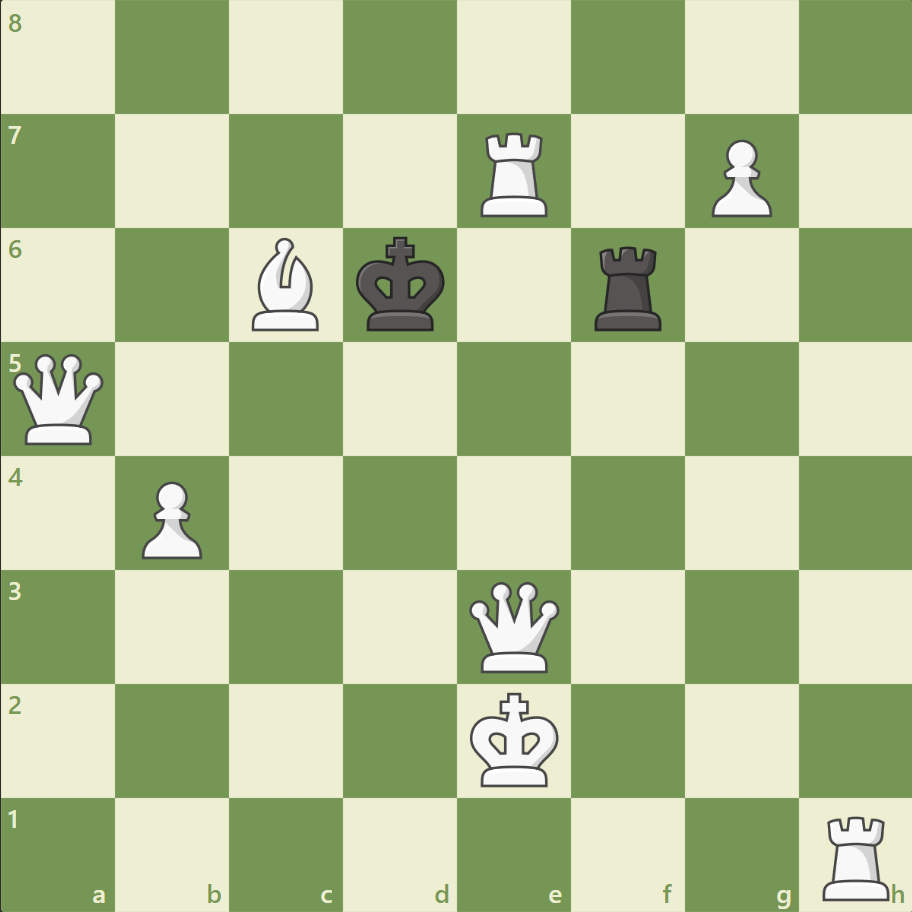B: (244, 233, 328, 336)
K: (465, 685, 565, 793)
P: (701, 132, 776, 223), (133, 473, 208, 564)
Q: (10, 349, 109, 449), (464, 576, 563, 676)
R: (814, 806, 897, 904), (473, 125, 556, 222)
k: (351, 231, 451, 339)
r: (587, 239, 670, 336)
